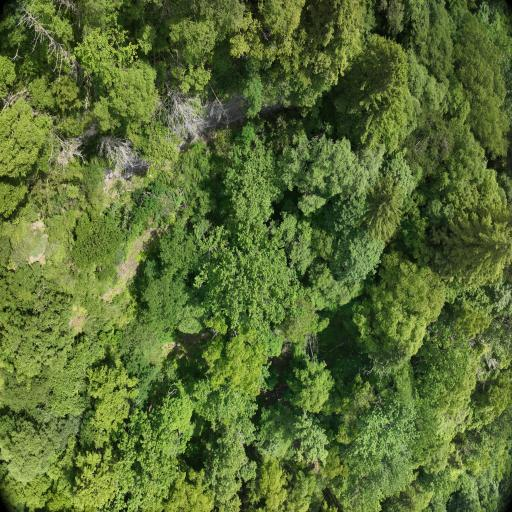dead-tree: (19, 1, 100, 99), (165, 83, 222, 137), (100, 132, 140, 179)
